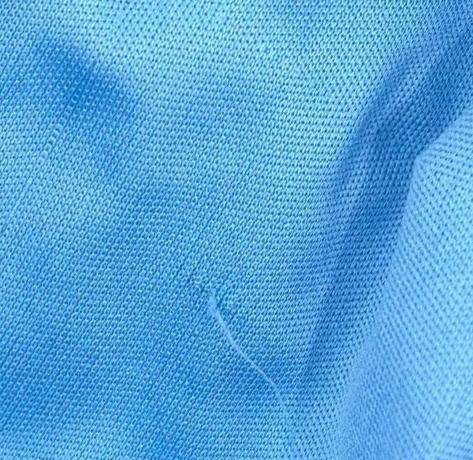snag: (199, 279, 304, 425)
